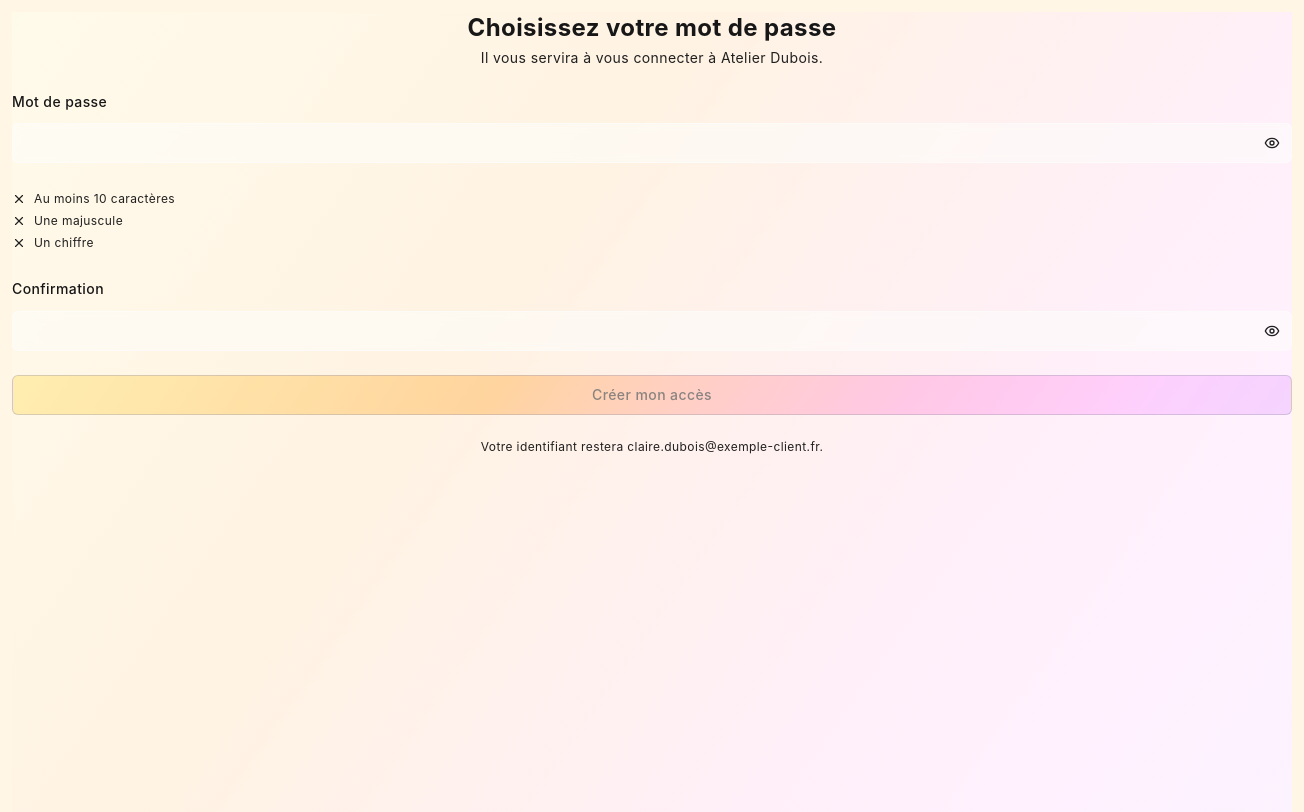
Test: PasswordScreen — règles de robustesse › débloque le bouton dès que les trois règles et la confirmation passent
Type "Motdepasse1" into the password field labelled "Mot de passe" at [652, 143], box x1=12 y1=123 x2=1292 y2=163
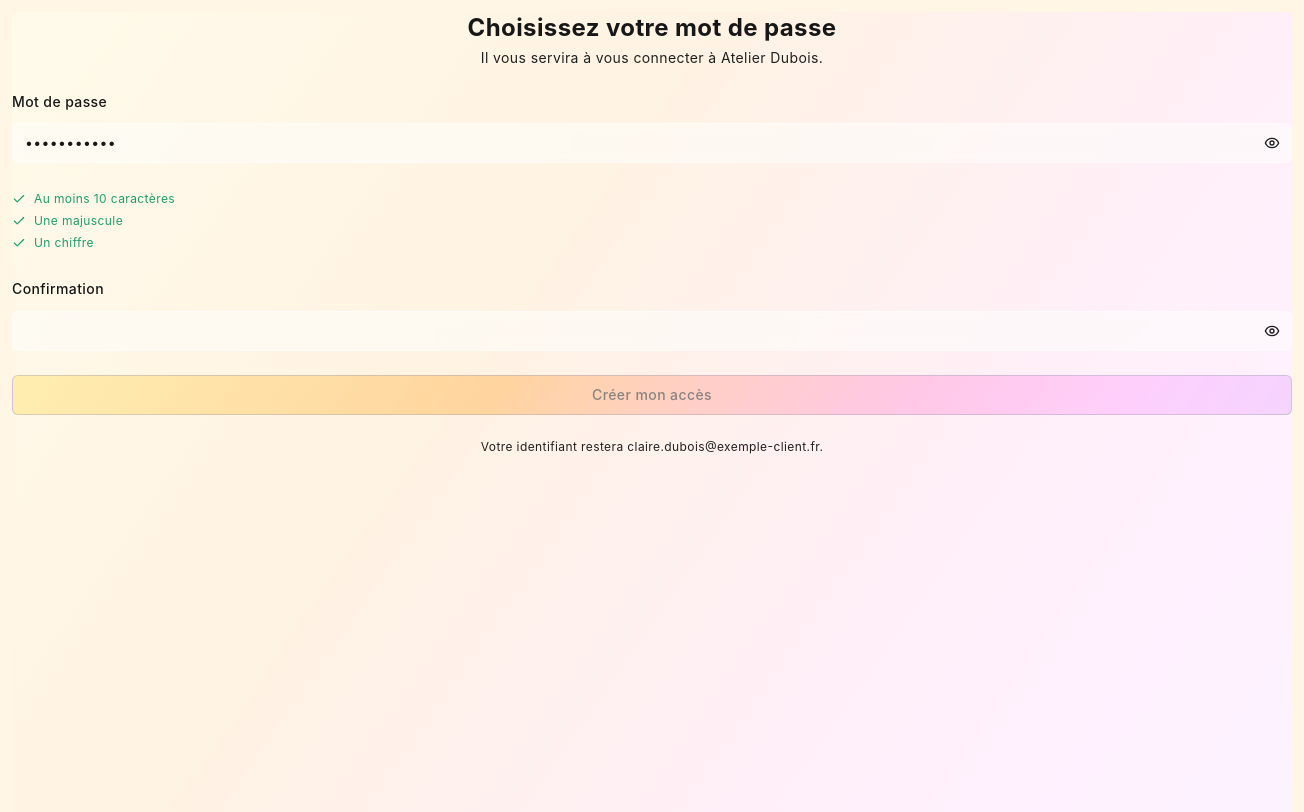
Expected: the button "Créer mon accès" is disabled, x1=12 y1=374 x2=1292 y2=414
Type "Motdepasse1" into the password field labelled "Confirmation" at [652, 330], box x1=12 y1=310 x2=1292 y2=350
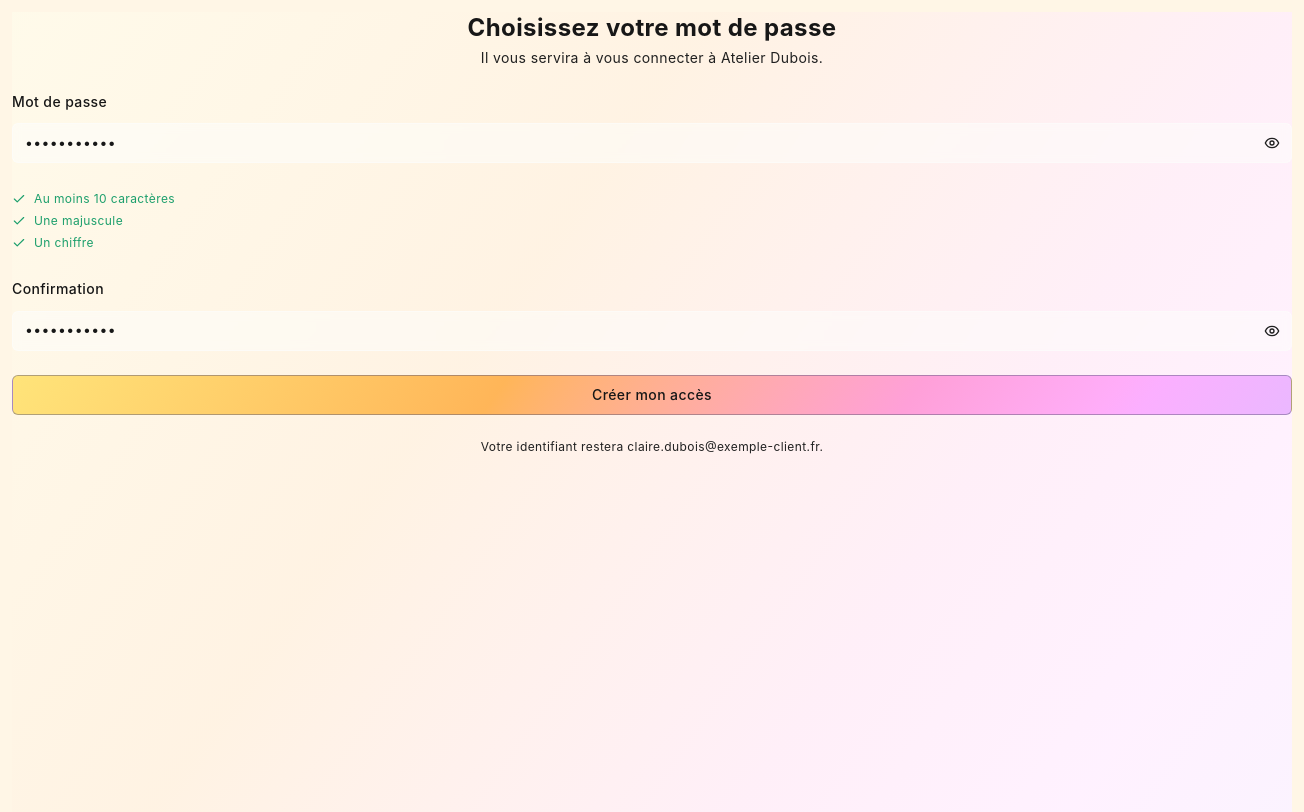
Expected: the button "Créer mon accès" is enabled, x1=12 y1=374 x2=1292 y2=414
